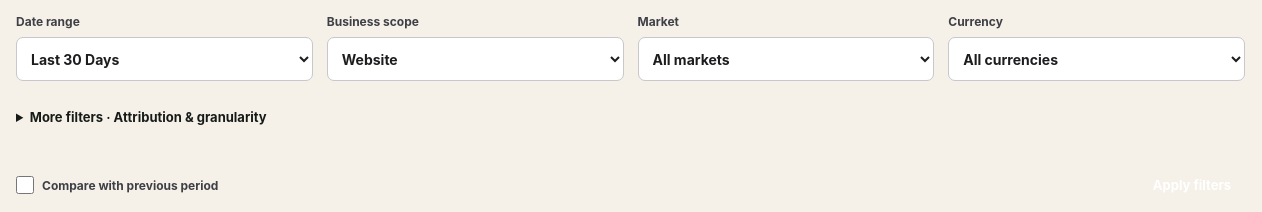
Scenario: WebsiteAnalyticsV2Filters › only shows editable dates for a custom range
Expected: the field labelled "From" is not shown
Expected: the field labelled "To" is not shown
Select "Custom" in the dropdown labelled "Date range" at (164, 59), box [16, 37, 313, 81]
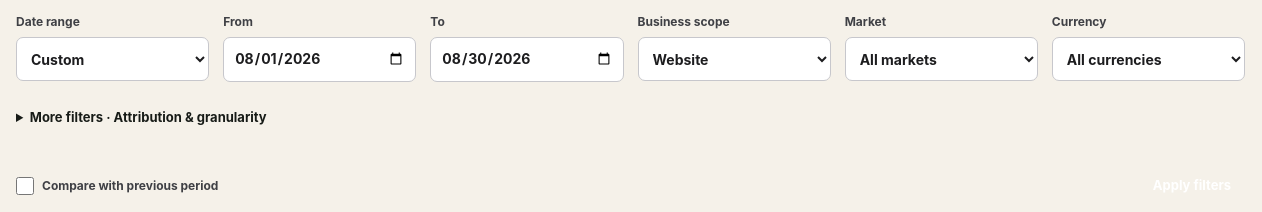
Now the date field labelled "From" is enabled, box [223, 37, 416, 82]
Now the date field labelled "To" is enabled, box [430, 37, 624, 82]
